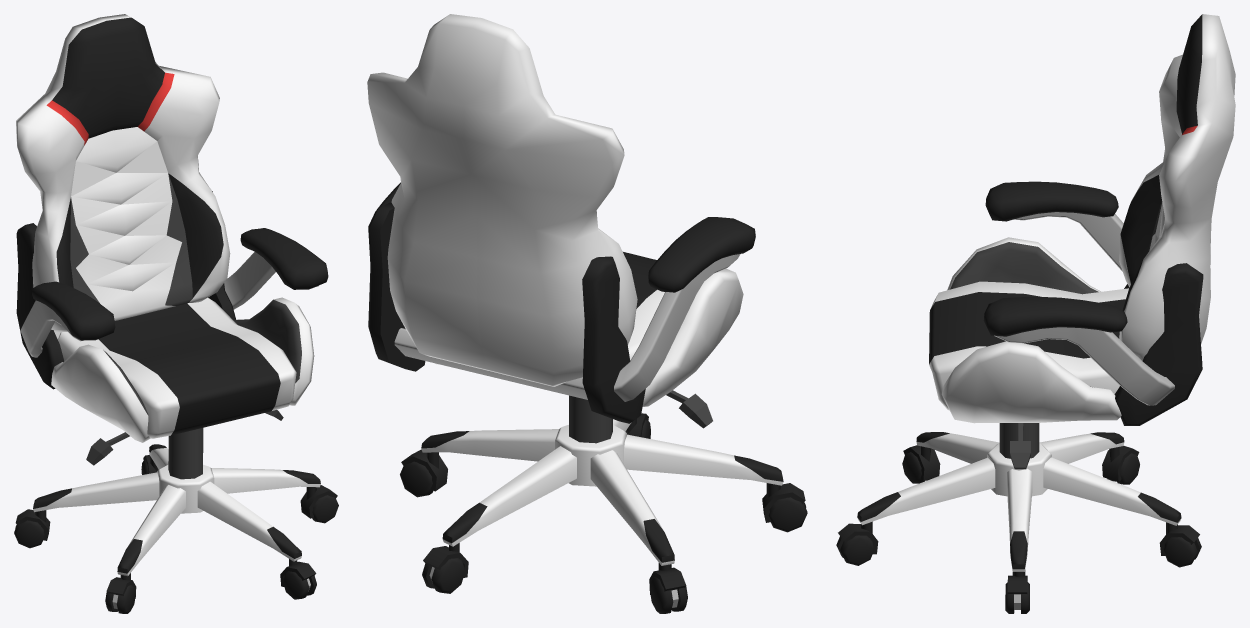
File: chair_045.fbx
3 views of the same model, side by side, from view 1: azimuth 30°, elevation 25°; view 2: azimuth 150°, elevation 25°; view 3: azimuth 270°, elevation 25° (orthographic). The views are drawn at different scales.
Parts seen in each view (by area): view 1: chair_045; view 2: chair_045; view 3: chair_045.
Boxes of the visible parts, x1=… form: chair_045: x1=14, y1=14, x2=338, y2=613; chair_045: x1=367, y1=14, x2=807, y2=613; chair_045: x1=836, y1=14, x2=1235, y2=613.
Bounding box in the file's own units: 96.24 × 110 × 158.
